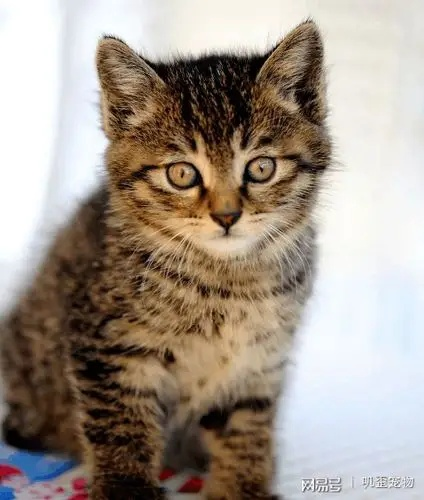狸花猫: (97, 20, 330, 230)
